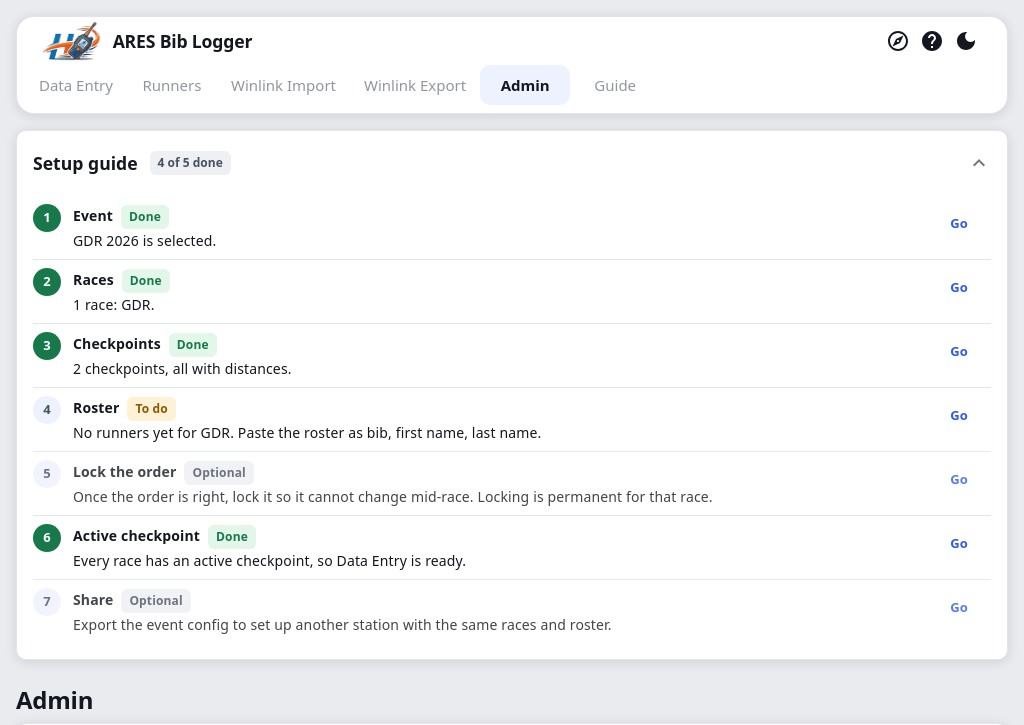
Test case: App › toggles between light and dark mode
Click the button named "switch to dark mode" at (966, 41), box [949,24,983,58]
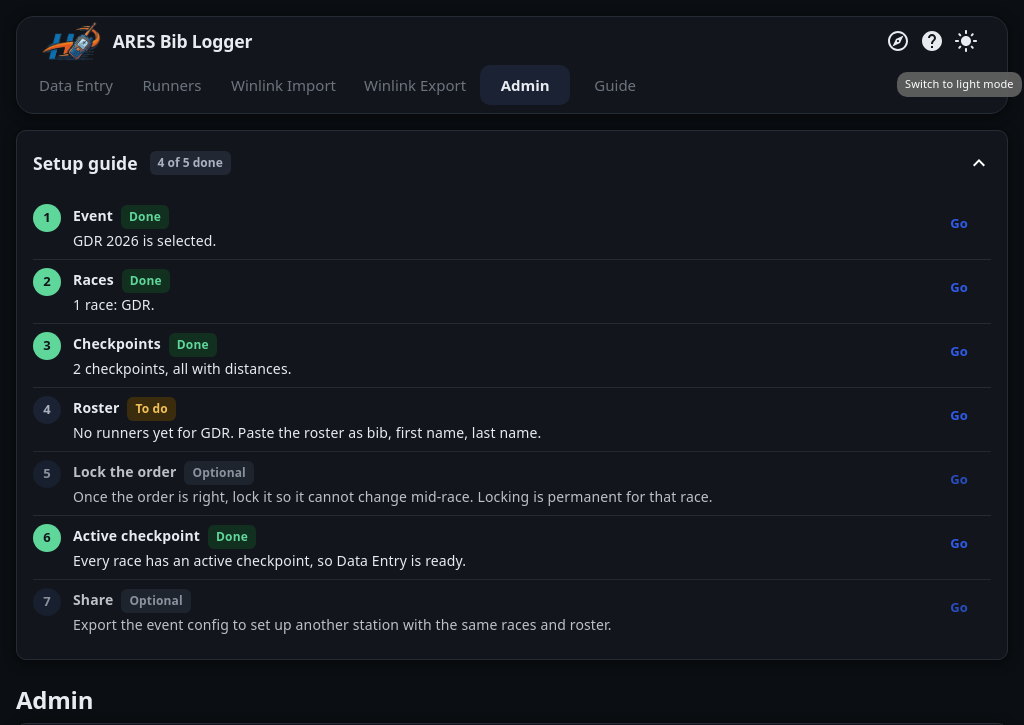
expect the button named "switch to light mode" is shown: met, box [949,24,983,58]
